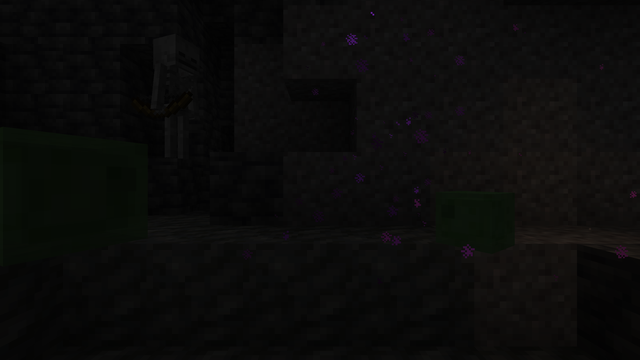slimes: (3, 125, 151, 260), (435, 189, 521, 250)
squelettes: (148, 34, 201, 158)
